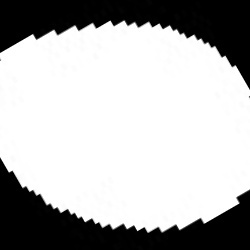spot: (0, 22, 248, 232)
